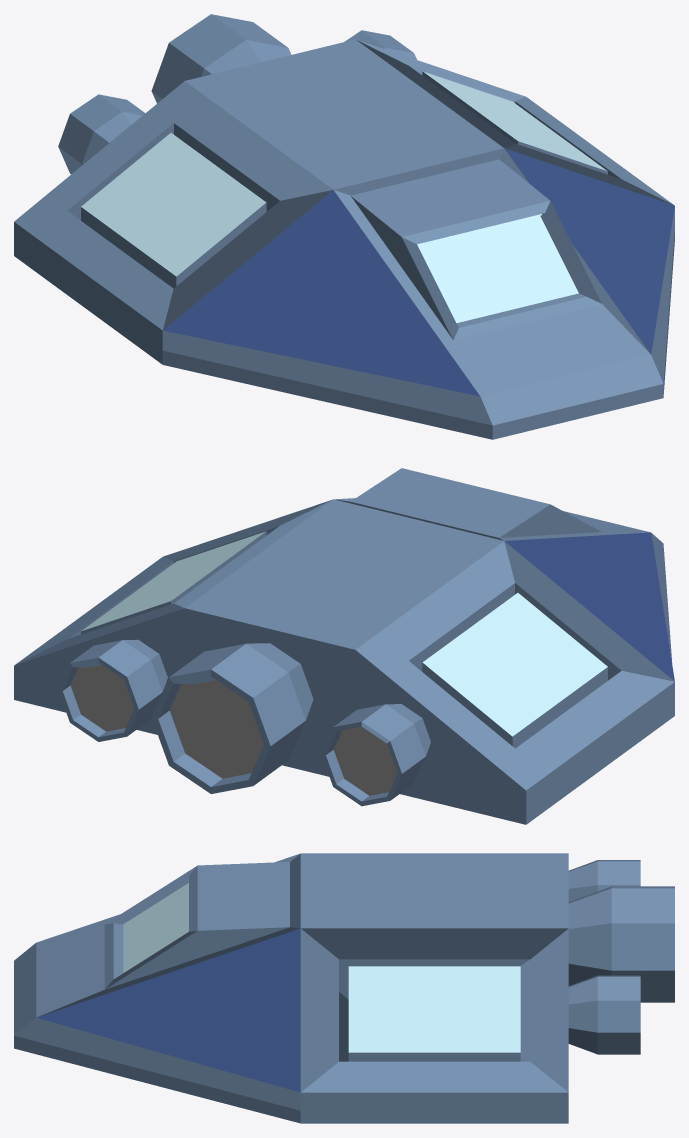
Rendered from spacecraft.fbx.
3 renders of one model, top to bottom at view 1: azimuth 30°, elevation 25°; view 2: azimuth 150°, elevation 25°; view 3: azimuth 270°, elevation 25°, orthographic. The views are drawn at different scales.
Visible parts, largest first — view 1: 평면, 원형, 원형.001; view 2: 평면, 원형, 원형.001; view 3: 평면, 원형, 원형.001.
Part boxes in pixels (x1=…): 평면: x1=14, y1=39, x2=674, y2=439; 원형: x1=151, y1=14, x2=291, y2=103; 원형.001: x1=58, y1=30, x2=416, y2=174; 평면: x1=14, y1=468, x2=674, y2=824; 원형: x1=151, y1=643, x2=313, y2=793; 원형.001: x1=58, y1=639, x2=430, y2=806; 평면: x1=14, y1=853, x2=568, y2=1123; 원형: x1=568, y1=886, x2=674, y2=1002; 원형.001: x1=568, y1=860, x2=640, y2=1054.
Bounding box in the file's own units: 200 × 50.81 × 248.
